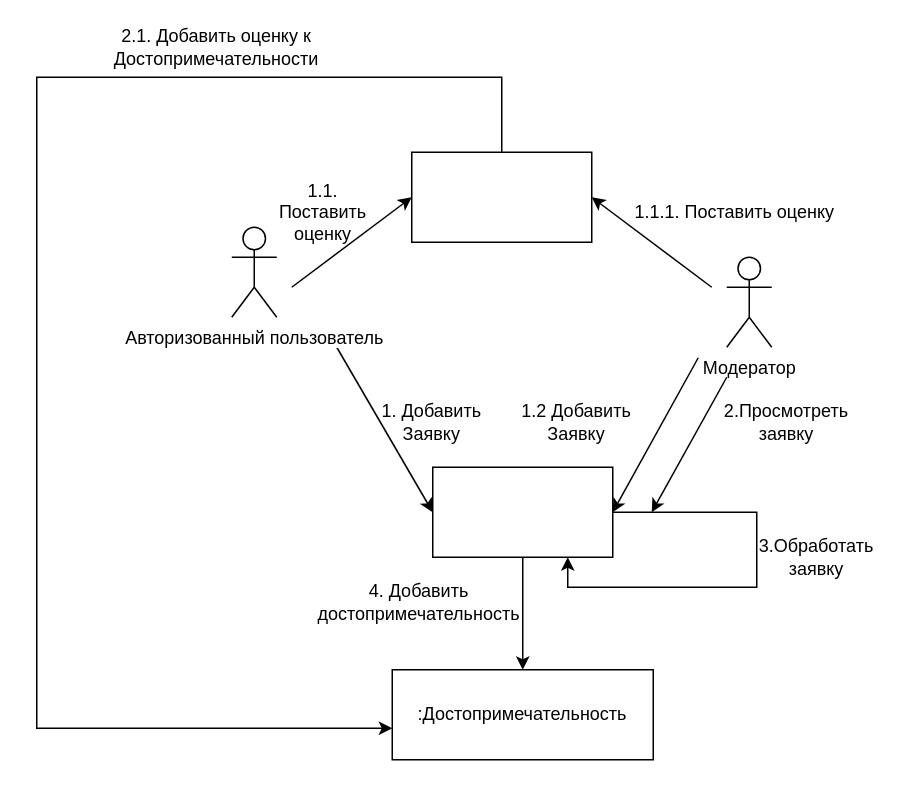
The diagram is 900 pixels wide and 786 high, and some of its shapes have lost their labels. The centre of each missing label's shape, as x and y in pixels:
:Заявка: point 522,511
:Оценка: point 501,196
